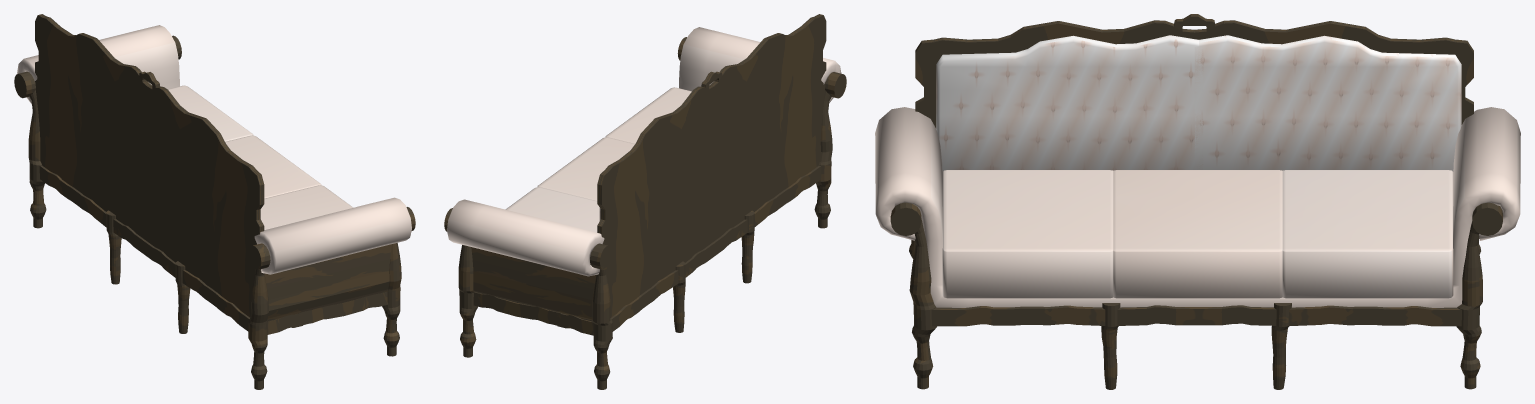
The model's file is classic sofa.fbx.
The picture shows the model from 3 angles, left to right: view 1: azimuth 30°, elevation 25°; view 2: azimuth 150°, elevation 25°; view 3: azimuth 270°, elevation 25°; orthographic projection. The views are drawn at different scales.
Visible parts, largest first — view 1: classic sofa; view 2: classic sofa; view 3: classic sofa.
Part boxes in pixels (left/top/right/bottom): classic sofa: left=14, top=14, right=415, bottom=389; classic sofa: left=444, top=14, right=846, bottom=389; classic sofa: left=875, top=14, right=1520, bottom=389.
Size of the model in its own units: 80.75 by 116 by 233.
Materials: 2 (2 with a texture image).
